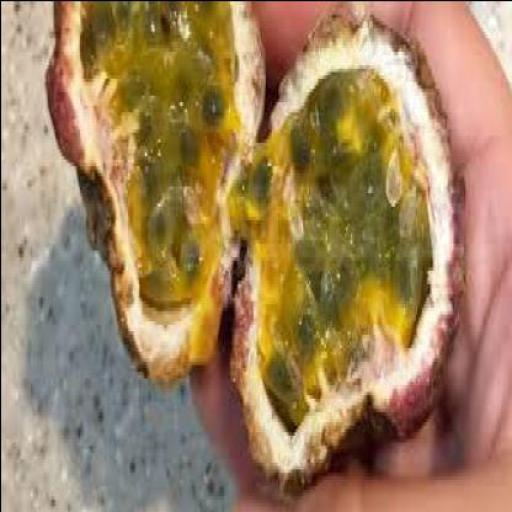biodegradable: (230, 10, 468, 485), (46, 1, 268, 377)
